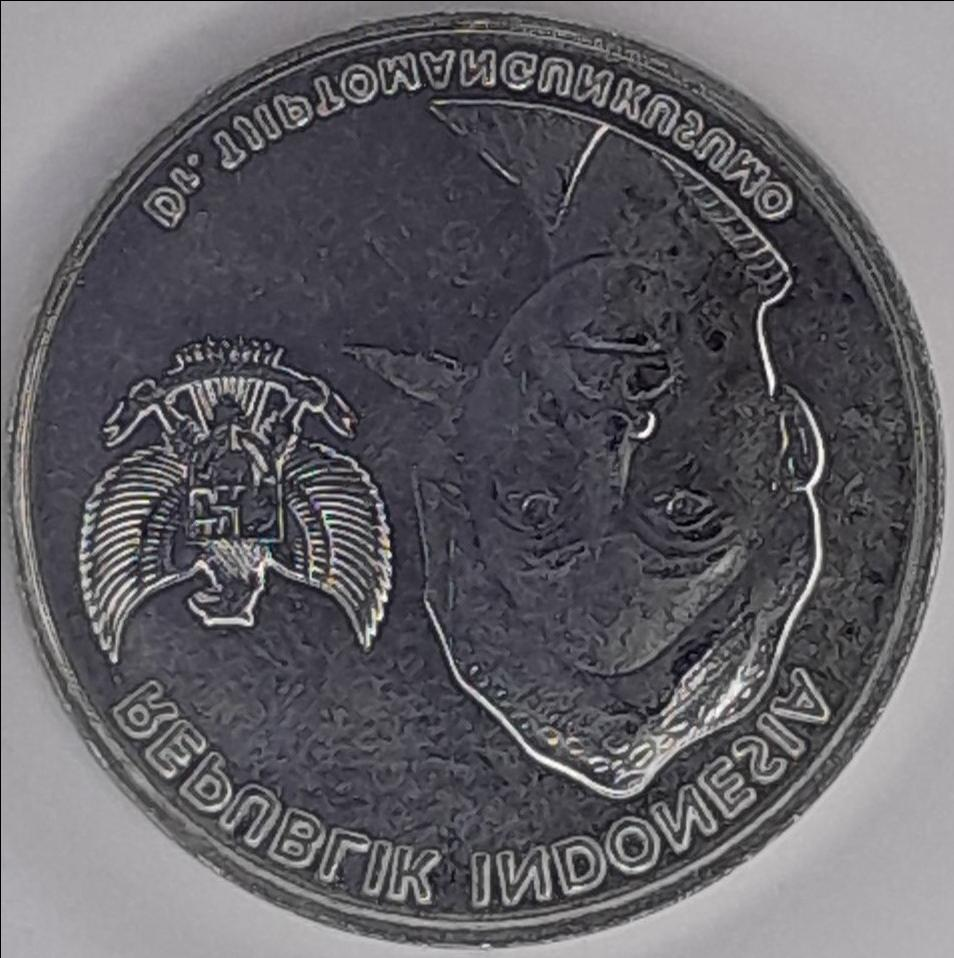coin_200_e2016: (0, 17, 954, 958)
